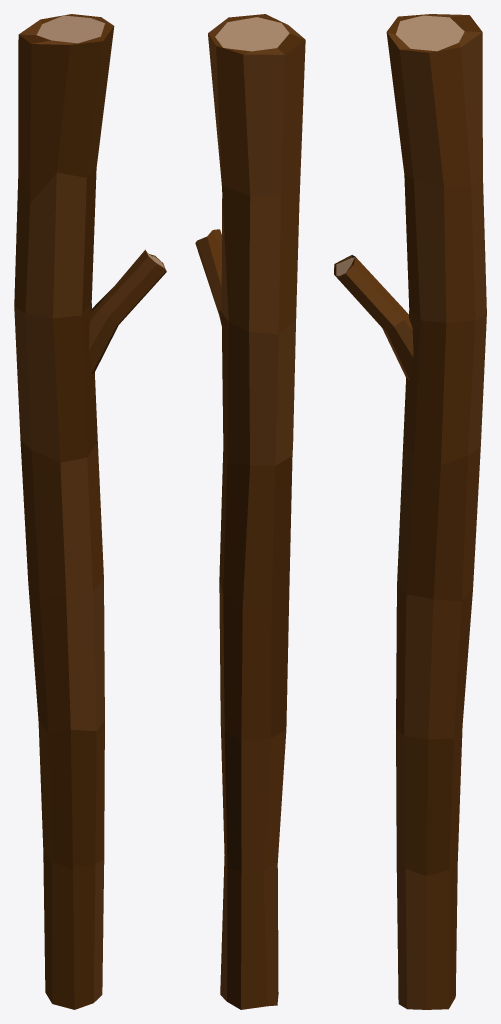
File: stick.fbx
The picture shows the model from 3 angles, left to right: view 1: azimuth 90°, elevation 25°; view 2: azimuth 210°, elevation 25°; view 3: azimuth 270°, elevation 25°; orthographic projection.
Visible parts, largest first — view 1: Cylinder; view 2: Cylinder; view 3: Cylinder.
Part boxes in pixels (x1,y1,x2,y2): Cylinder: (14,14,166,1009); Cylinder: (195,14,305,1009); Cylinder: (334,14,486,1009).
Bounding box in the file's own units: 81.44 × 571 × 45.11.
